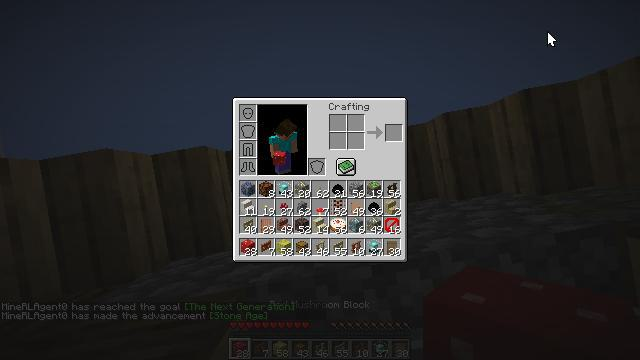cursor: (547, 31, 557, 47)
